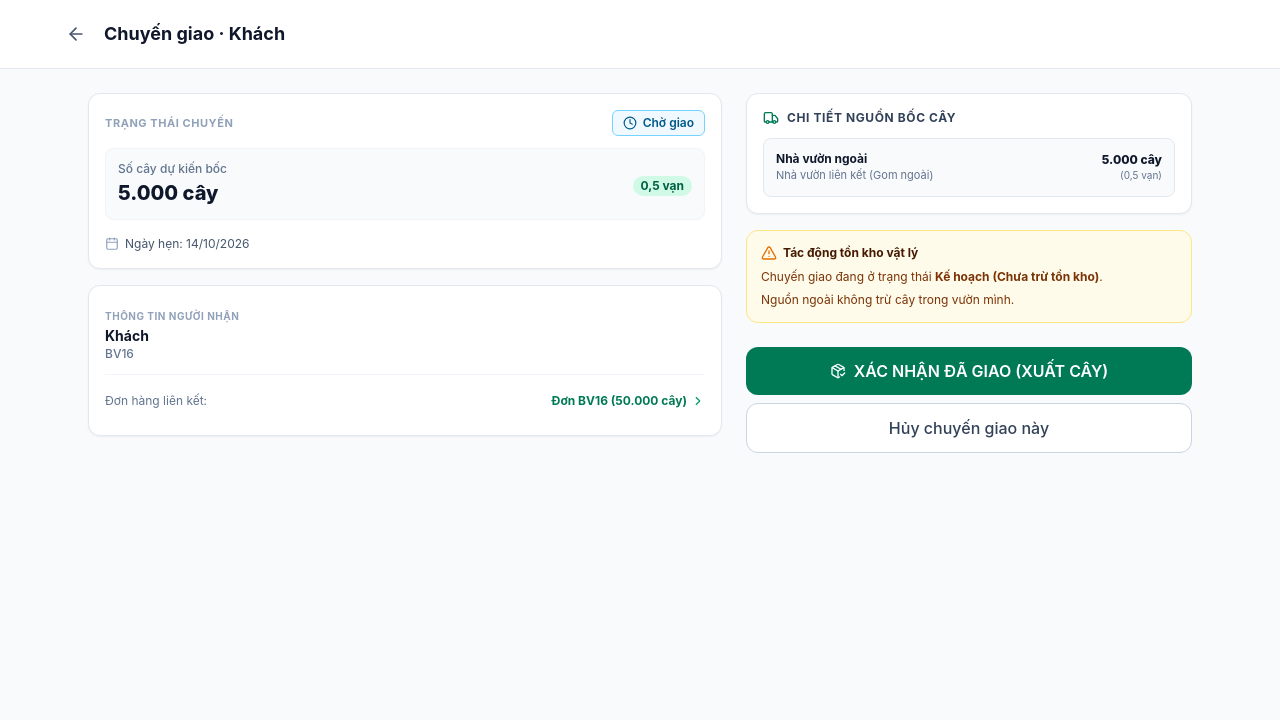
FC4 final acceptance: external release/shipment truthfulness (real Dexie) › external-only confirmation/completion explicitly leaves own stock unchanged
The image size is (1280, 720).
Check: the text "Nguồn ngoài không trừ cây trong vườn mình." is shown, box [761, 292, 1014, 307]
Click the button "XÁC NHẬN ĐÃ GIAO (XUẤT CÂY)" at (969, 371), box [746, 347, 1192, 395]
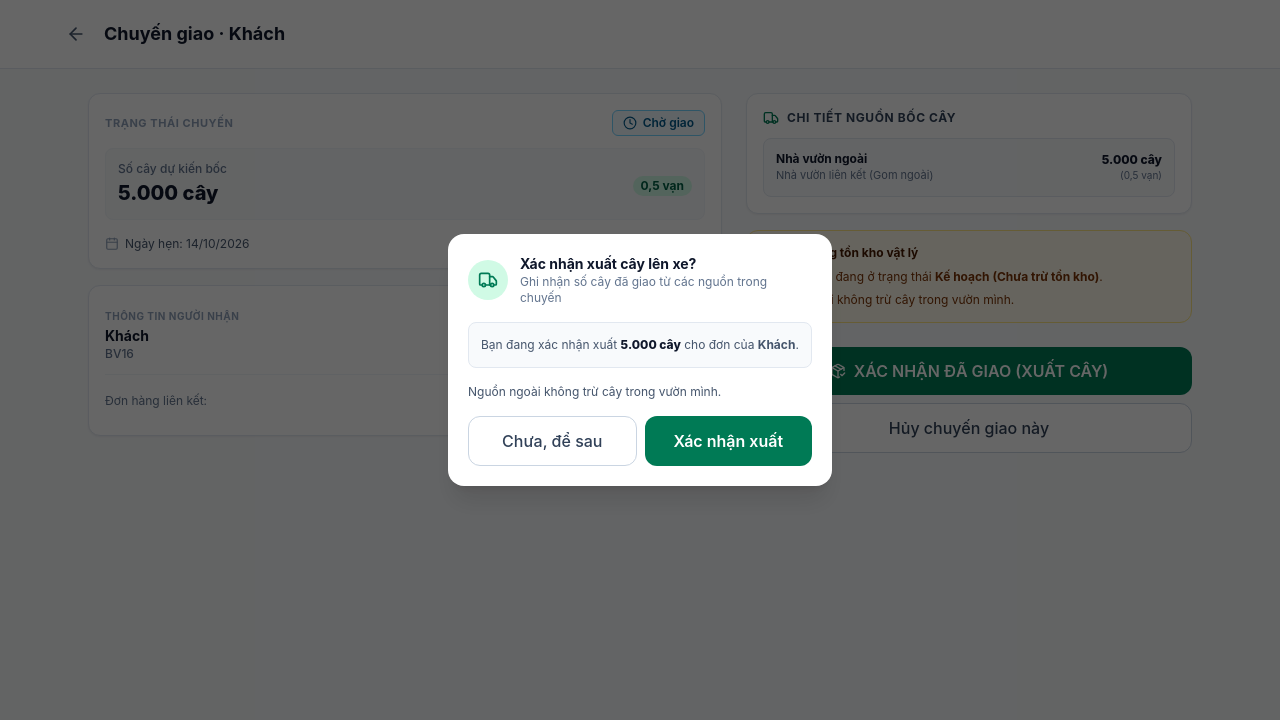
Check: the text "Nguồn ngoài không trừ cây trong vườn mình." is shown 2 times, box [761, 292, 1014, 307]; [468, 384, 721, 399]
Click the button "Xác nhận xuất" at (728, 441), box [645, 416, 812, 466]
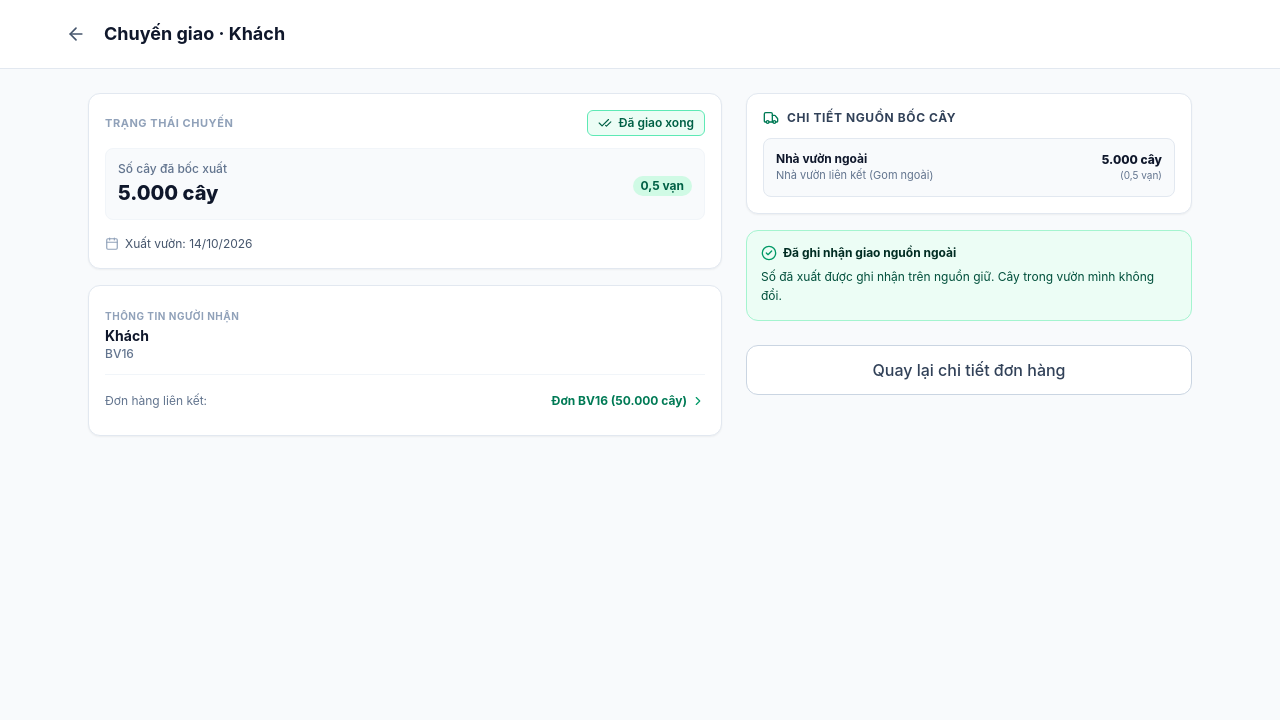
Check: the text "Đã ghi nhận giao nguồn ngoài" is shown, box [783, 244, 956, 260]
